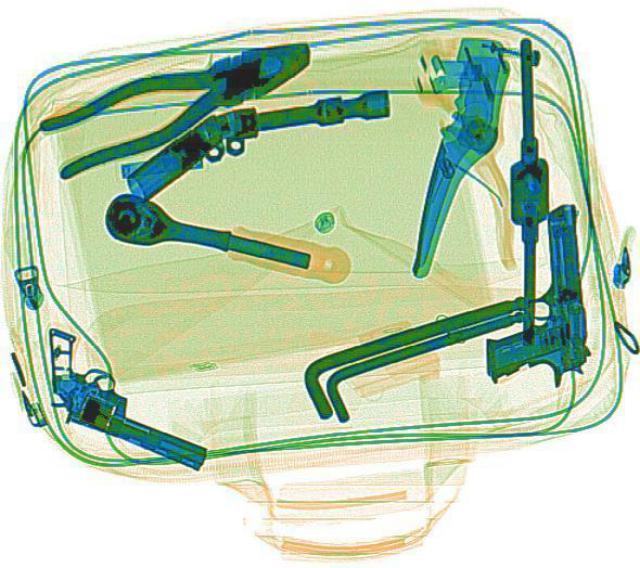Gun: (4, 322, 240, 471), (468, 200, 592, 390)
Pliers: (26, 19, 327, 178)
